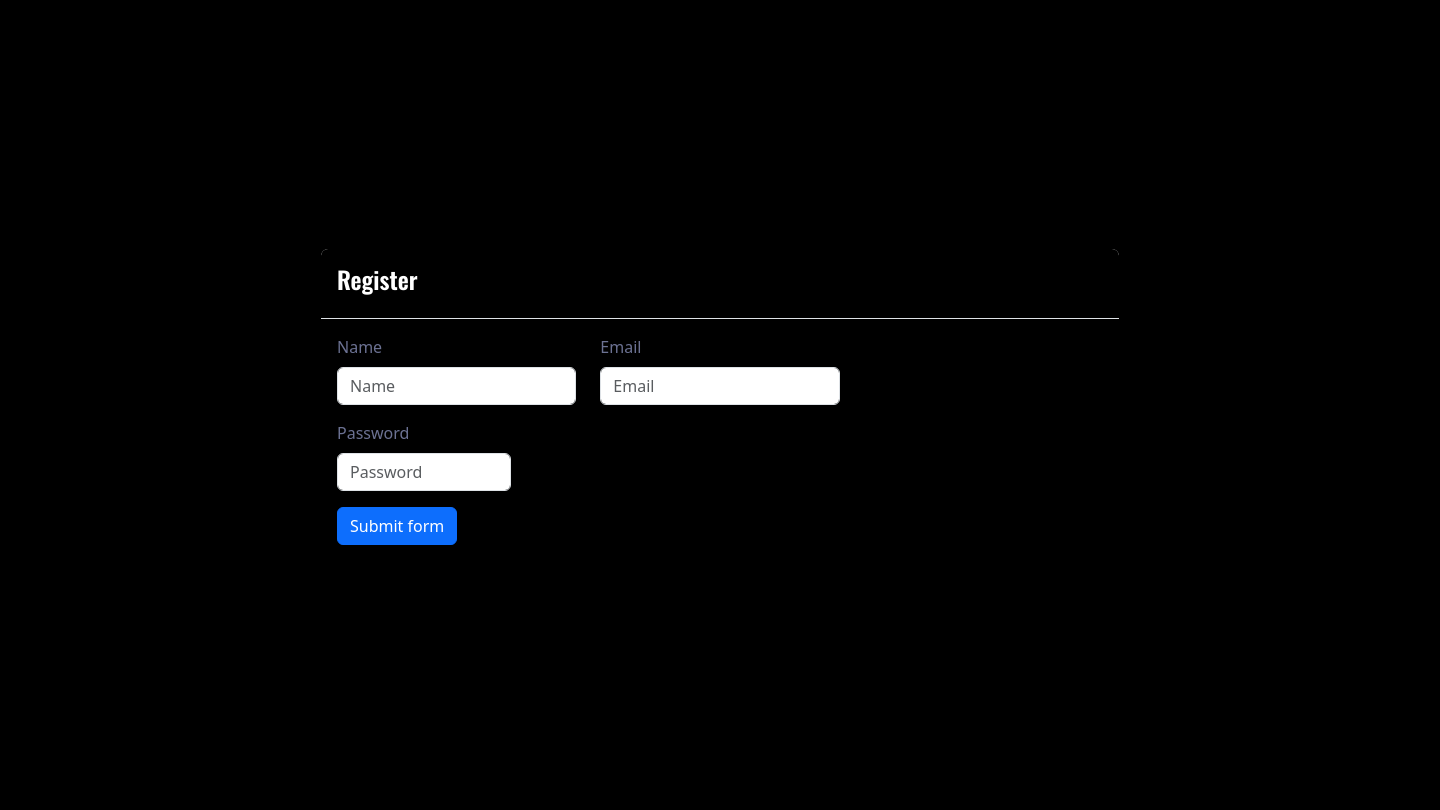
Test: Registration component › shows validation error message when email is empty
In the field with placeholder "Name": (457, 386) [337,367,576,405], type "John Doe"
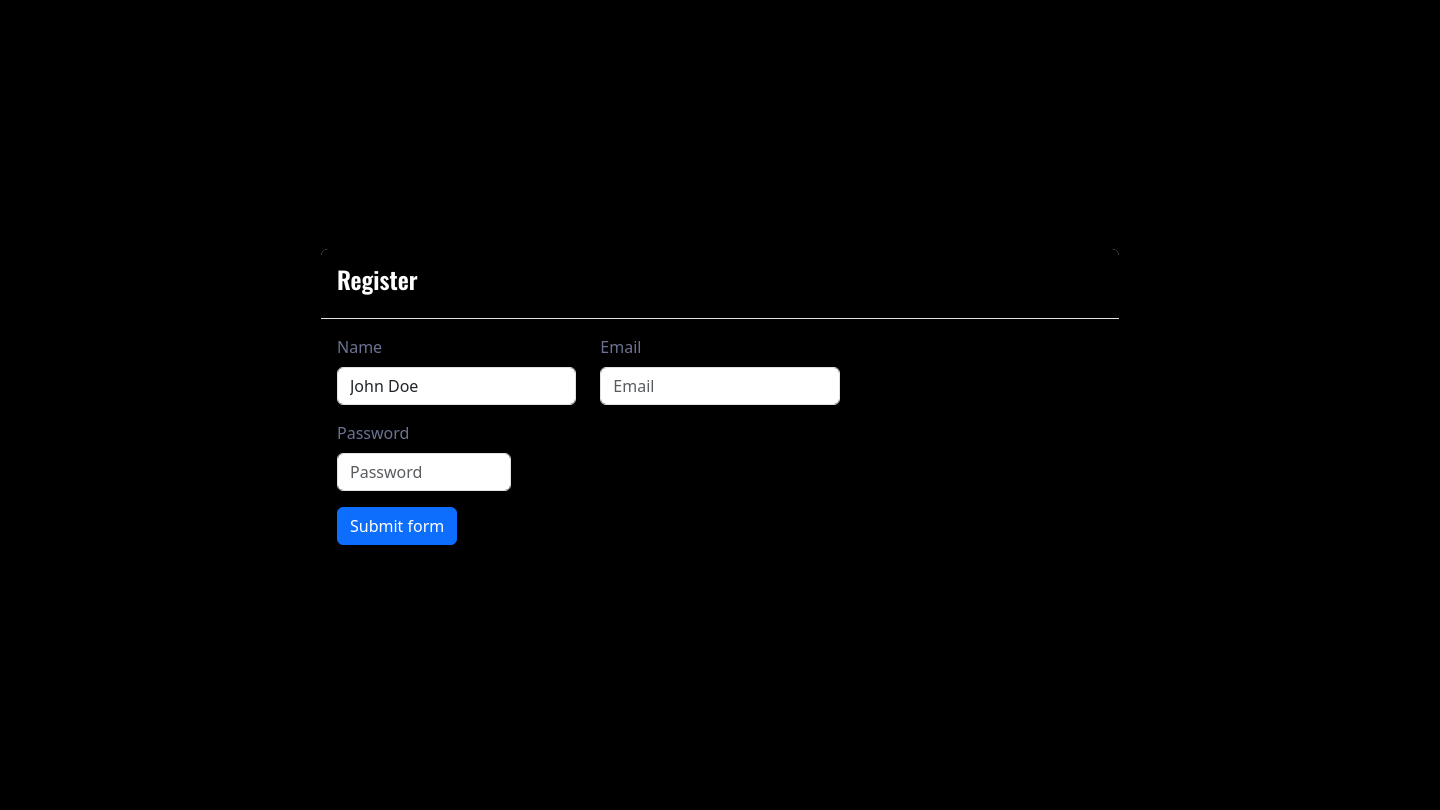
In the password field with placeholder "Password": (424, 472) [337,453,510,491], type "testPassword"
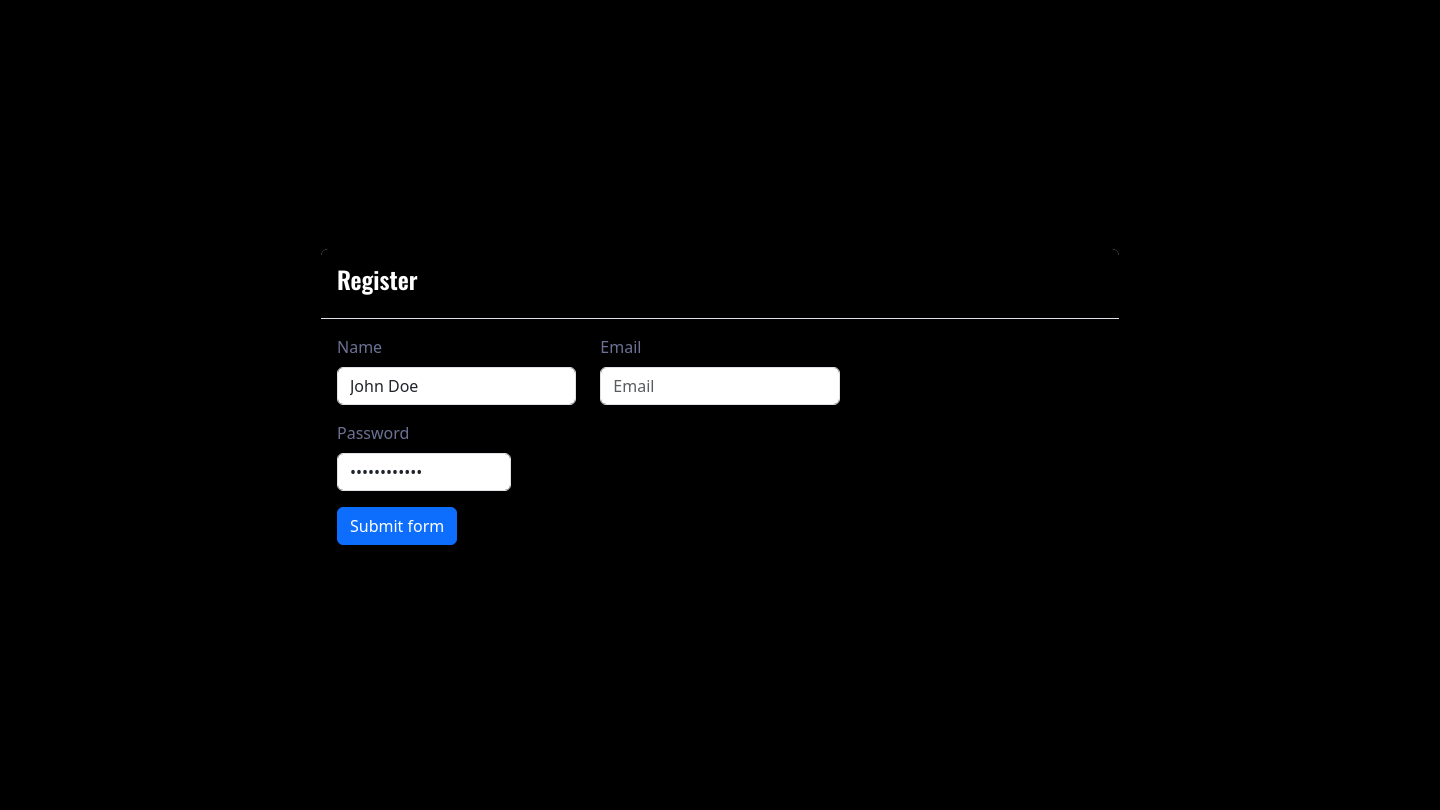
Click the button "Submit form": click(397, 526) [337,507,457,545]
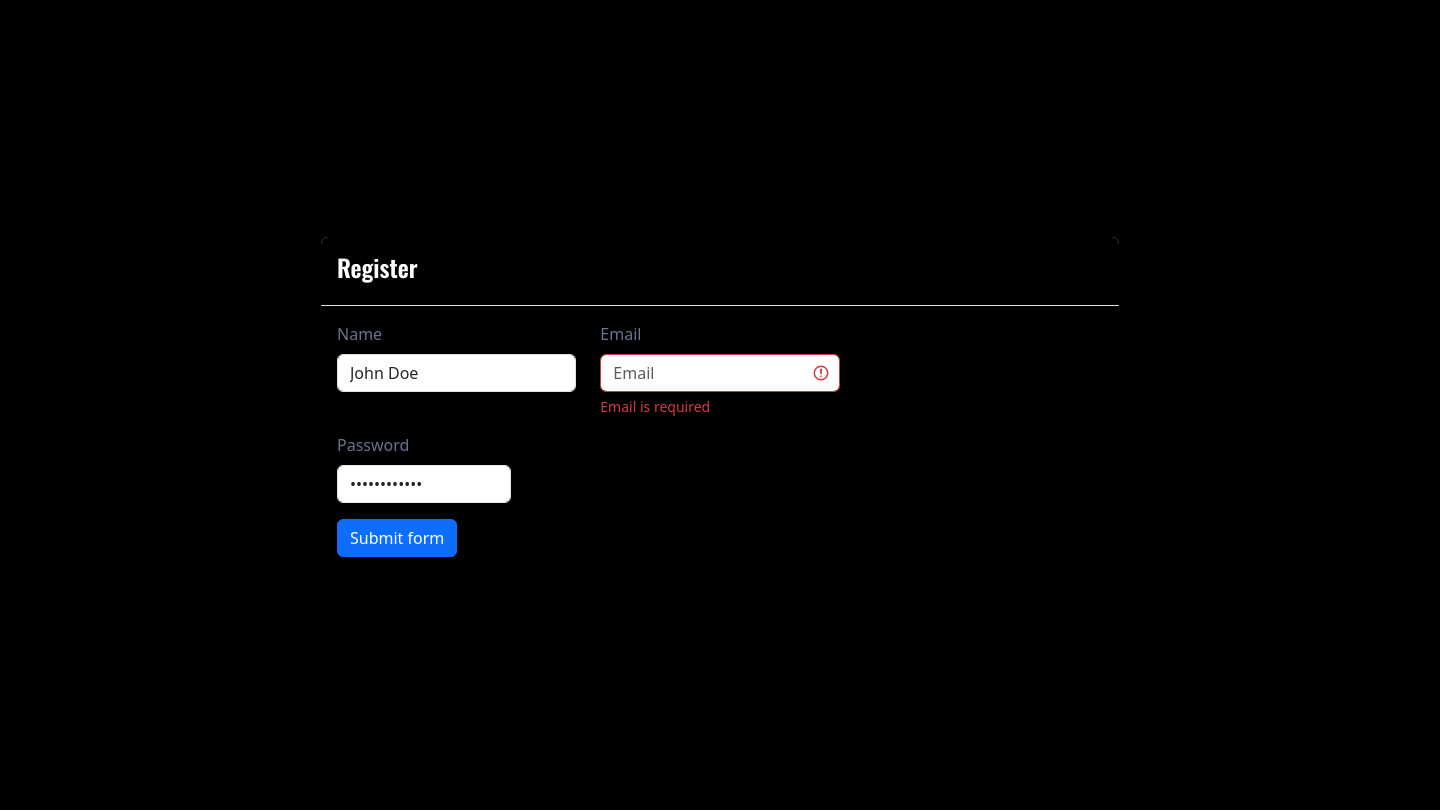
Expected: the text "Email is required" is shown, [600,397,710,416]
